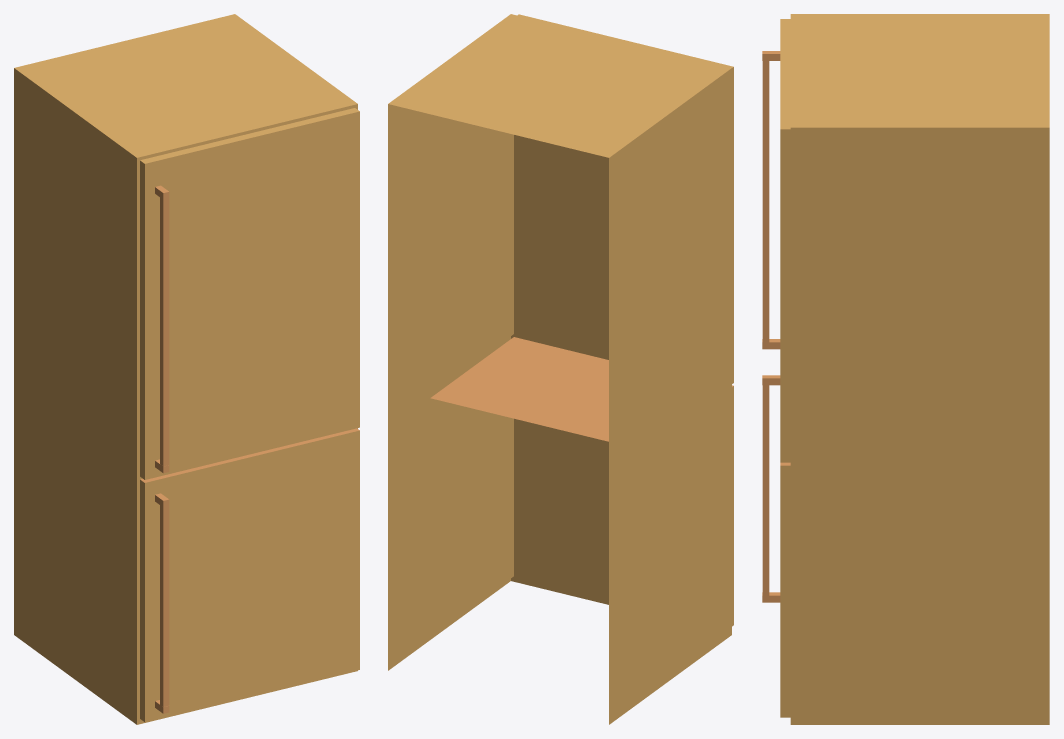
The model's file is 4 fridge.fbx.
The picture shows the model from 3 angles, left to right: view 1: azimuth 30°, elevation 25°; view 2: azimuth 150°, elevation 25°; view 3: azimuth 270°, elevation 25°; orthographic projection. The views are drawn at different scales.
Parts seen in each view (by area): view 1: 4 fridge; view 2: 4 fridge; view 3: 4 fridge.
Boxes of the visible parts, left/top/right/bottom form: 4 fridge: left=14, top=14, right=359, bottom=724; 4 fridge: left=388, top=14, right=733, bottom=724; 4 fridge: left=762, top=14, right=1049, bottom=724.
Size of the model in its own units: 54.05 by 132 by 57.7.
